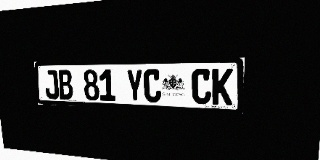1: (98, 69, 116, 101)
8: (83, 69, 100, 101)
B: (57, 70, 74, 100)
C: (192, 69, 211, 104), (143, 69, 161, 103)
J: (44, 70, 59, 99)
K: (212, 68, 233, 105)
Y: (126, 69, 144, 102)
